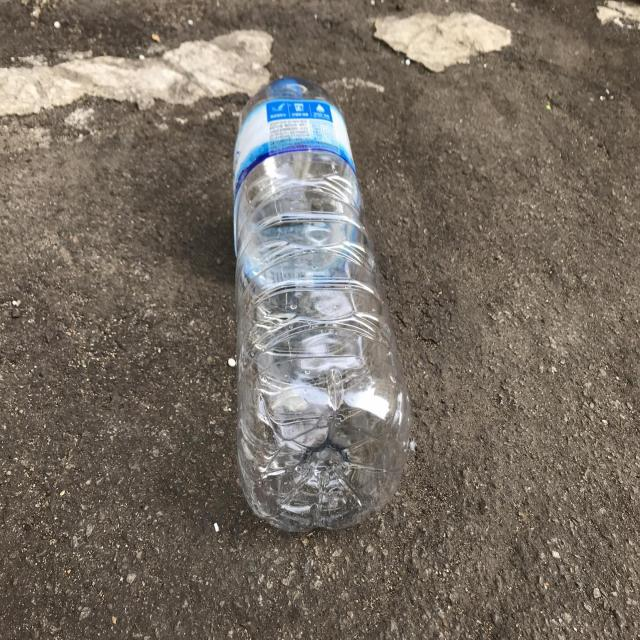plastic: (233, 77, 410, 532)
